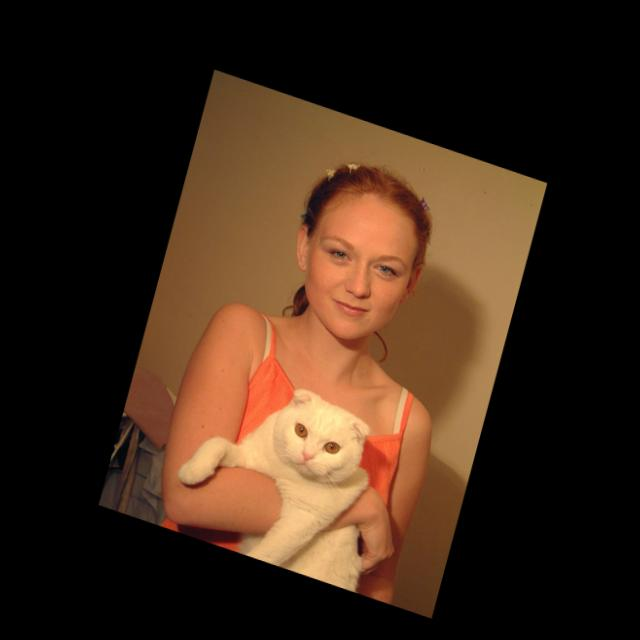animals: (278, 389, 371, 471)
